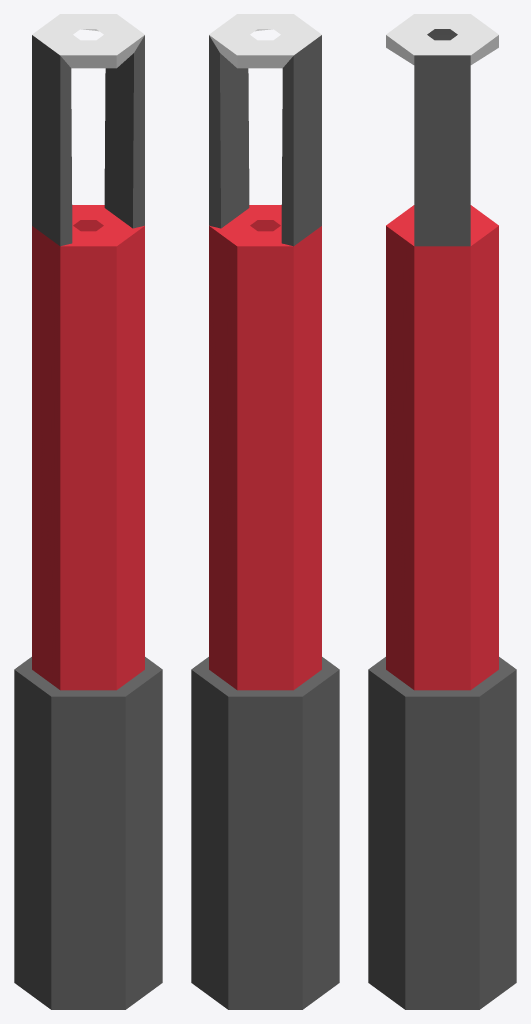
The model's file is modelo_item_sinalizador.fbx.
3 views of the same model, side by side, from view 1: azimuth 30°, elevation 25°; view 2: azimuth 150°, elevation 25°; view 3: azimuth 270°, elevation 25° (orthographic).
Visible parts, largest first — view 1: Item Sinalizador; view 2: Item Sinalizador; view 3: Item Sinalizador.
Boxes of the visible parts, box(x1,y1,x2,y2) form: Item Sinalizador: box(14, 14, 162, 1009); Item Sinalizador: box(191, 14, 339, 1009); Item Sinalizador: box(368, 14, 516, 1009).
Bounding box in the file's own units: 9.08 × 73.86 × 10.48.
